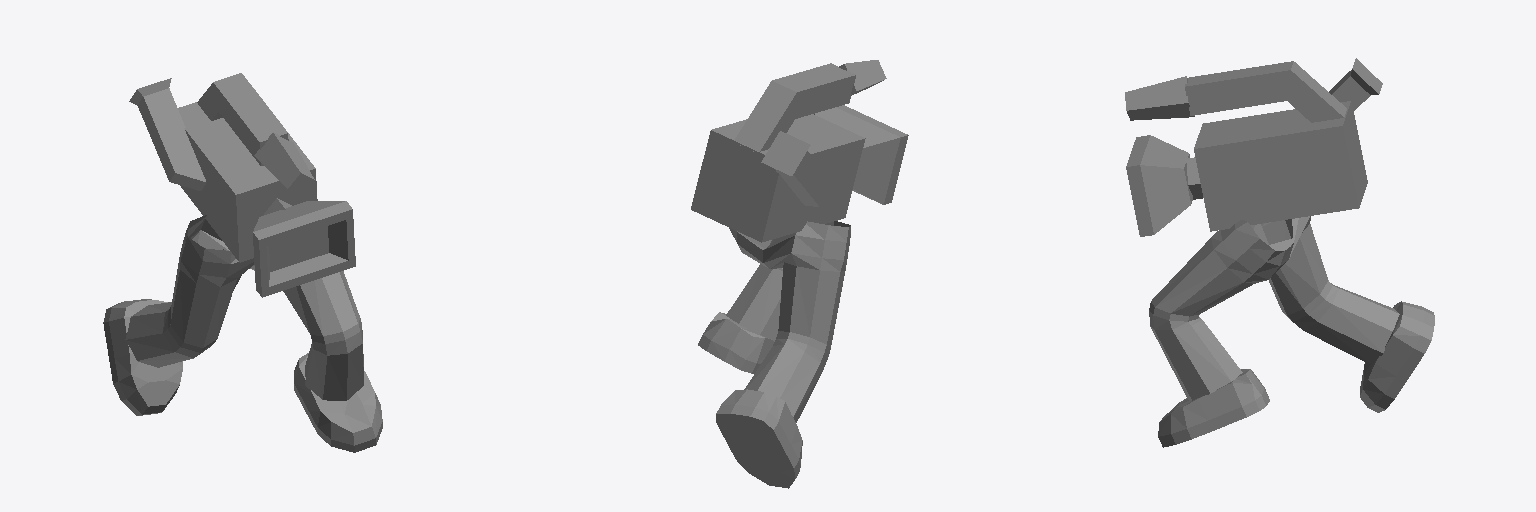
File: cam_7.obj
The picture shows the model from 3 angles: view 1: azimuth 30°, elevation 25°; view 2: azimuth 150°, elevation 25°; view 3: azimuth 270°, elevation 25°; orthographic projection.
Visible parts, largest first — view 1: Box002, Cylinder001; view 2: Box002, Cylinder001; view 3: Box002, Cylinder001.
Part boxes in pixels (bbox=[...]): Box002: bbox=[129, 73, 355, 297]; Cylinder001: bbox=[103, 215, 382, 452]; Box002: bbox=[691, 60, 908, 242]; Cylinder001: bbox=[698, 221, 850, 488]; Box002: bbox=[1125, 58, 1382, 236]; Cylinder001: bbox=[1149, 216, 1434, 447].
Bounding box in the file's own units: 9.33 × 19.13 × 14.82.